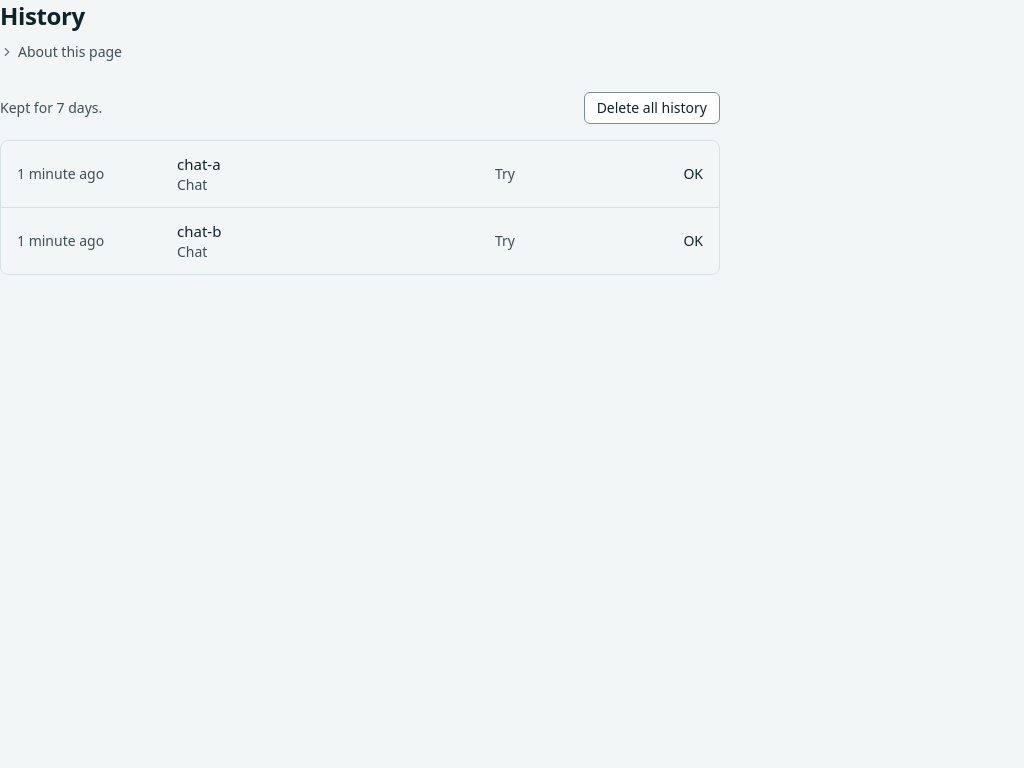
it: deleting › deletes one request after a confirm, then refreshes the list
Step 1. Click the button "1 minute ago chat-a Chat Try OK" → {"x": 61, "y": 174}, box [1,141,719,207]
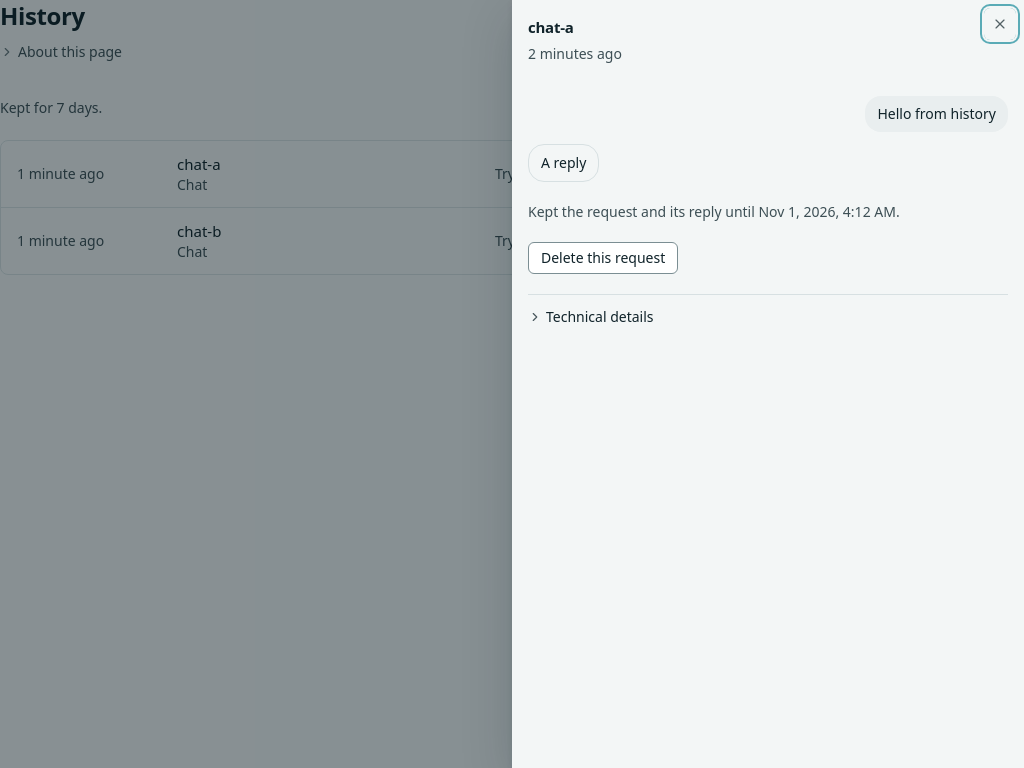
Step 2. Click the button "Delete this request" → {"x": 603, "y": 258}, box [528,242,678,274]
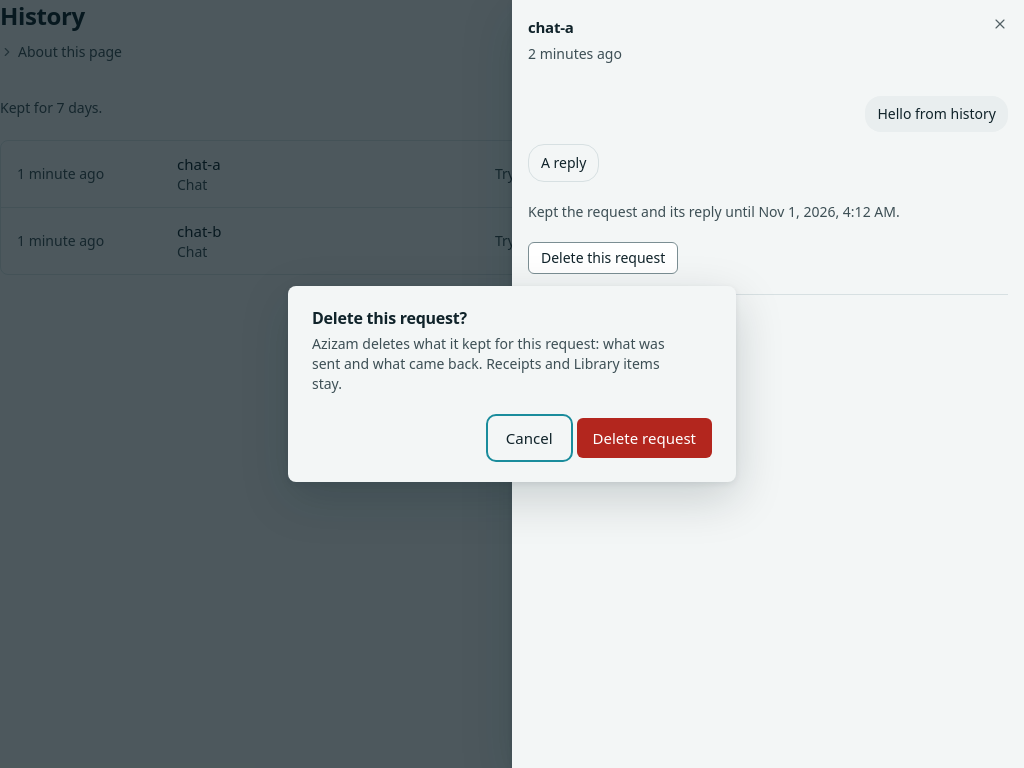
Result: the heading "Delete this request?" is shown at [312,307,467,329]
Result: the text "Receipts and Library items stay" is shown at [312,334,665,393]
Step 3. Click the button "Delete request" → {"x": 644, "y": 438}, box [577,418,712,458]
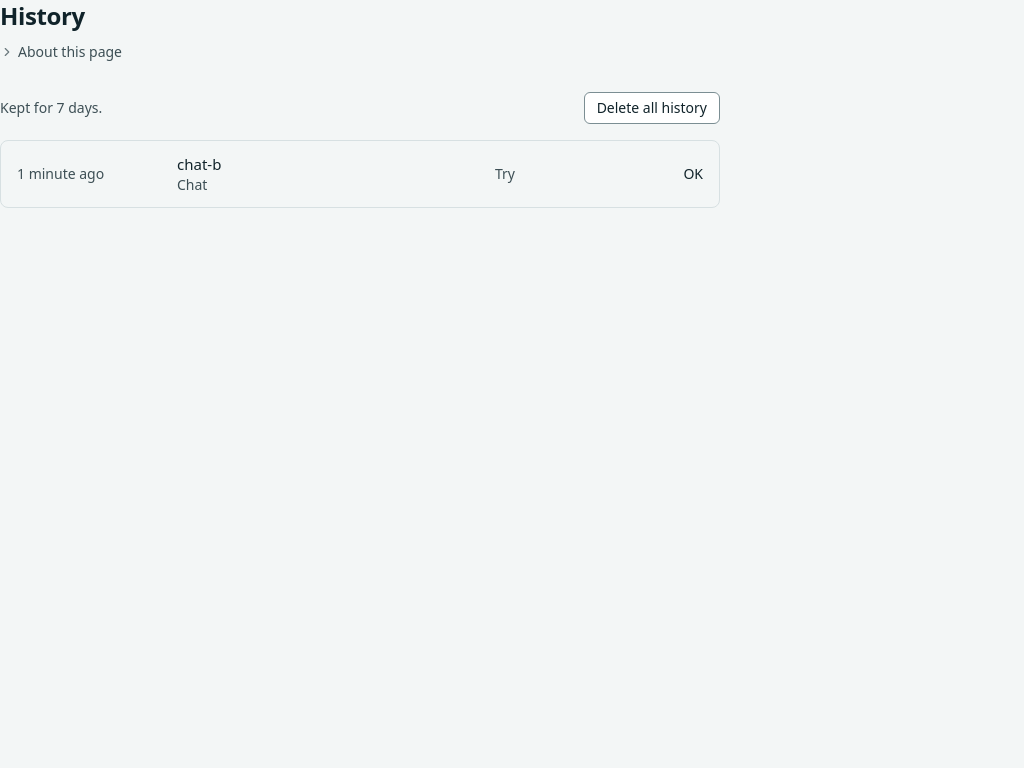
Expected: the button "1 minute ago chat-b Chat Try OK" is shown, [1,141,719,207]
Result: the button "chat-a" is gone
